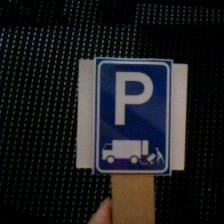load: (84, 55, 175, 171)
